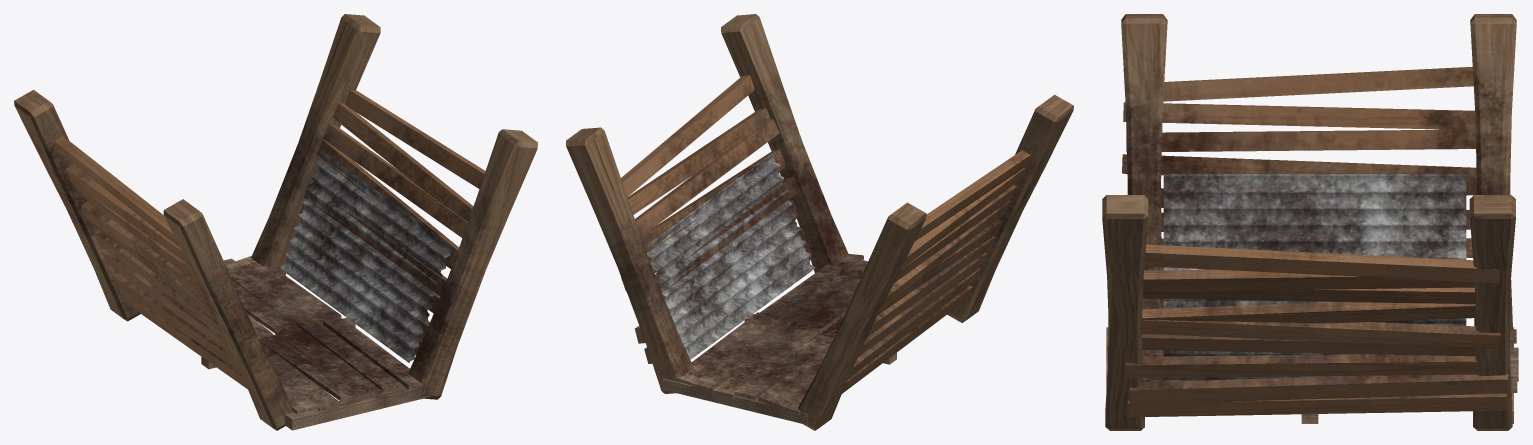
Rendered from trench_straight.glb.
3 views of the same model, side by side, from view 1: azimuth 30°, elevation 25°; view 2: azimuth 150°, elevation 25°; view 3: azimuth 270°, elevation 25° (orthographic). The views are drawn at different scales.
Parts seen in each view (by area): view 1: Box019_Straight section_0; view 2: Box019_Straight section_0; view 3: Box019_Straight section_0.
Part boxes in pixels (x1,y1,x2,y2): Box019_Straight section_0: (14, 14, 537, 430); Box019_Straight section_0: (566, 14, 1073, 430); Box019_Straight section_0: (1102, 14, 1518, 430).
Size of the model in its own units: 3.69 by 2.42 by 3.25.
1 material, 1 textured.
